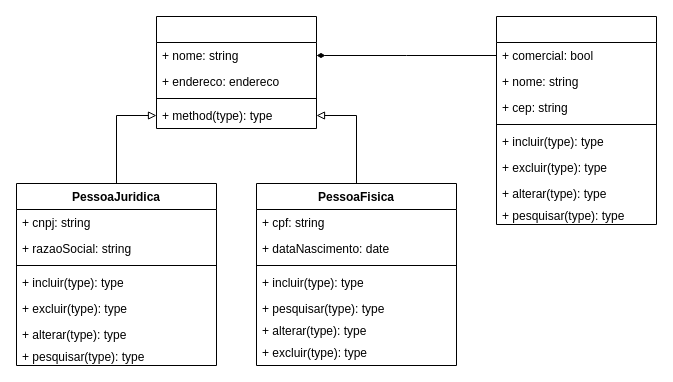
Some shapes in this 673 by 382 pixel diagram are drawn without their labels. Here are the shapes that lost their labels. From the top down, the box of each, then its label:
(156, 16, 316, 128): Pessoa
(496, 16, 656, 224): Endereço
